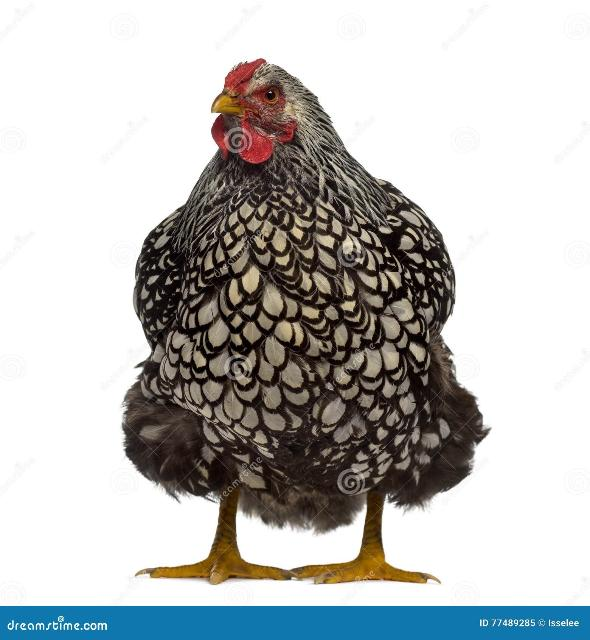Chicken: (125, 58, 489, 588)
